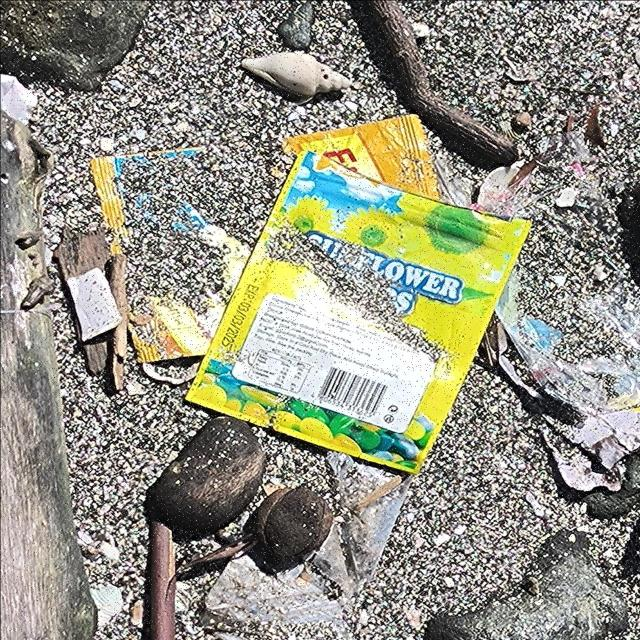plastic_waste: (184, 149, 534, 476)
